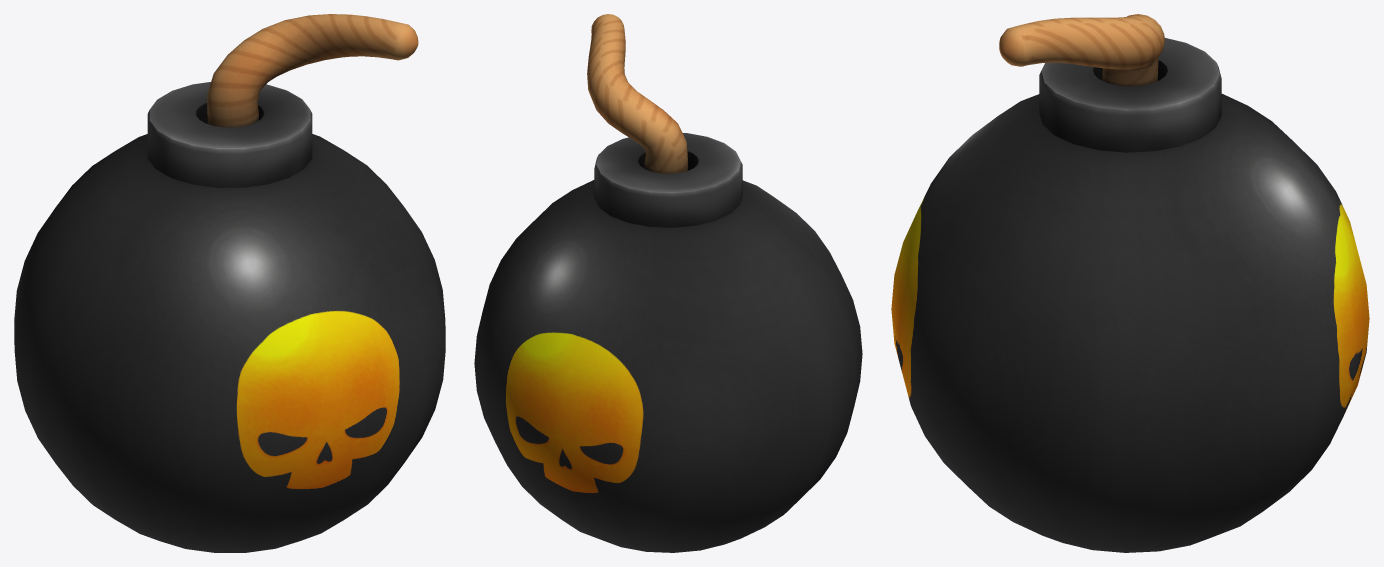
File: Bomb.fbx
The picture shows the model from 3 angles, left to right: view 1: azimuth 30°, elevation 25°; view 2: azimuth 150°, elevation 25°; view 3: azimuth 270°, elevation 25°; orthographic projection. The views are drawn at different scales.
Visible parts, largest first — view 1: Bomb; view 2: Bomb; view 3: Bomb.
Part boxes in pixels (x1,y1,x2,y2): Bomb: (14,14,445,552); Bomb: (474,14,862,552); Bomb: (891,14,1369,552).
Size of the model in its own units: 0.1199 by 0.1567 by 0.1199.
